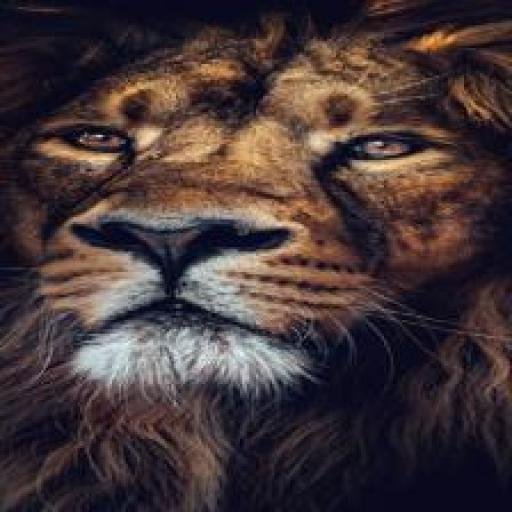lion: (7, 34, 497, 418)
